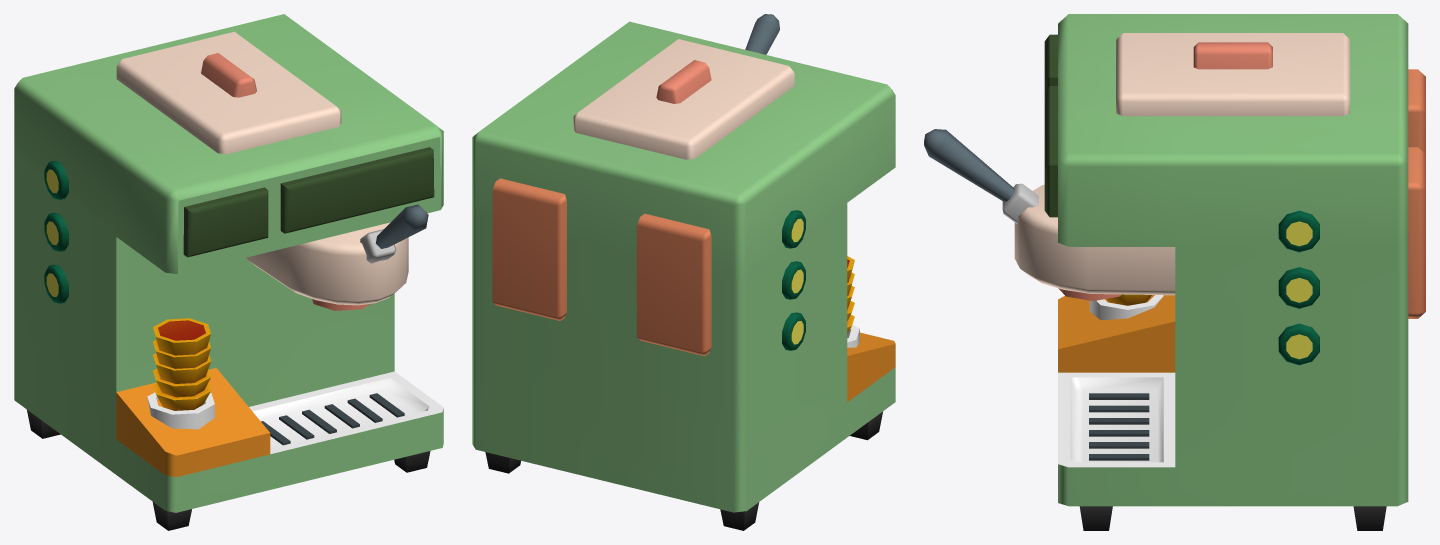
File: Decor_Maylamkem_04.fbx
The picture shows the model from 3 angles, left to right: view 1: azimuth 30°, elevation 25°; view 2: azimuth 150°, elevation 25°; view 3: azimuth 270°, elevation 25°; orthographic projection. The views are drawn at different scales.
Parts seen in each view (by area): view 1: Decor_Maylamkem_04; view 2: Decor_Maylamkem_04; view 3: Decor_Maylamkem_04.
Part boxes in pixels (bbox=[...]): Decor_Maylamkem_04: bbox=[14, 14, 443, 530]; Decor_Maylamkem_04: bbox=[472, 14, 895, 530]; Decor_Maylamkem_04: bbox=[924, 14, 1425, 530].
Size of the model in its own units: 102 by 128 by 140.
